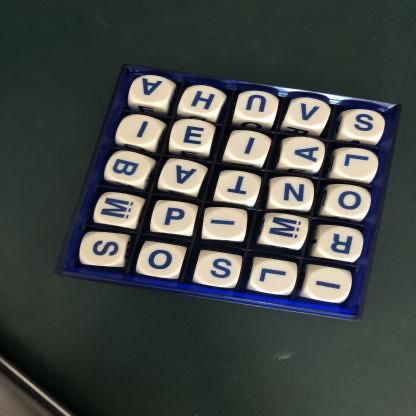a: (163, 162, 205, 191), (286, 138, 326, 168), (133, 77, 173, 104)
b: (109, 154, 150, 183)
e: (173, 121, 214, 150)
h: (183, 87, 223, 113)
i: (307, 268, 352, 303), (205, 209, 248, 240), (228, 133, 270, 162), (120, 116, 160, 144)
l: (252, 260, 297, 293), (336, 149, 378, 179)
m: (96, 194, 143, 225), (265, 215, 308, 246)
n: (270, 178, 315, 209)
o: (140, 245, 184, 278), (328, 187, 371, 218)
p: (154, 203, 195, 234)
r: (319, 227, 363, 260)
s: (81, 234, 126, 266), (198, 253, 241, 286), (345, 111, 385, 139)
t: (218, 172, 260, 203)
u: (239, 92, 278, 120)
v: (290, 99, 330, 127)
